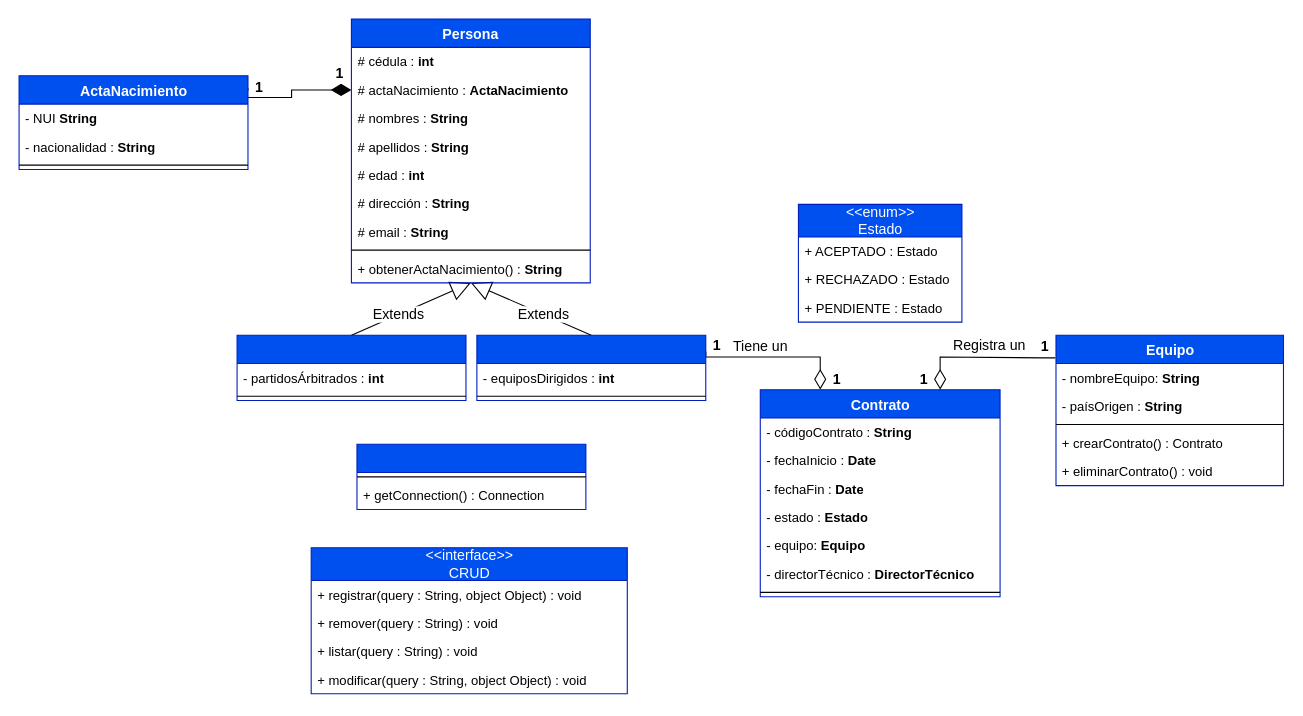
The diagram is 1303 pixels wide and 716 high, and some of its shapes have lost their labels. Each missing label, with the box of its shape:
Conexión: (356, 443, 586, 510)
DirectorTécnico: (476, 334, 706, 401)
Árbitro: (236, 334, 466, 401)
